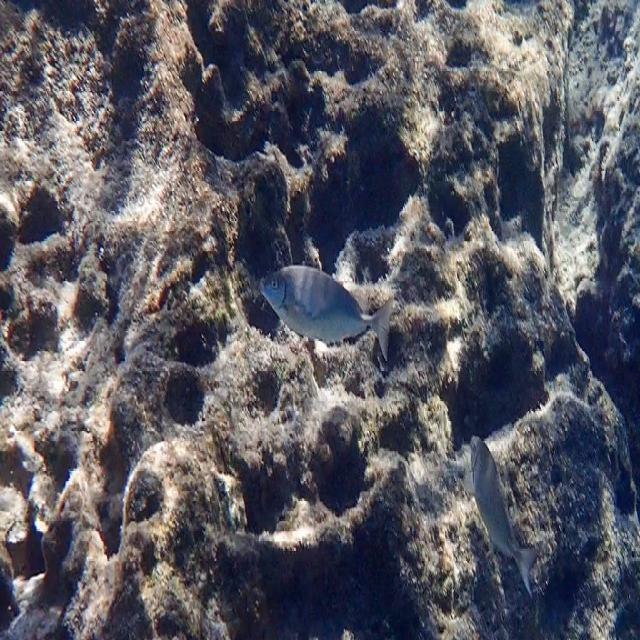Sokar Baligi: (253, 253, 397, 371), (465, 425, 546, 601)
